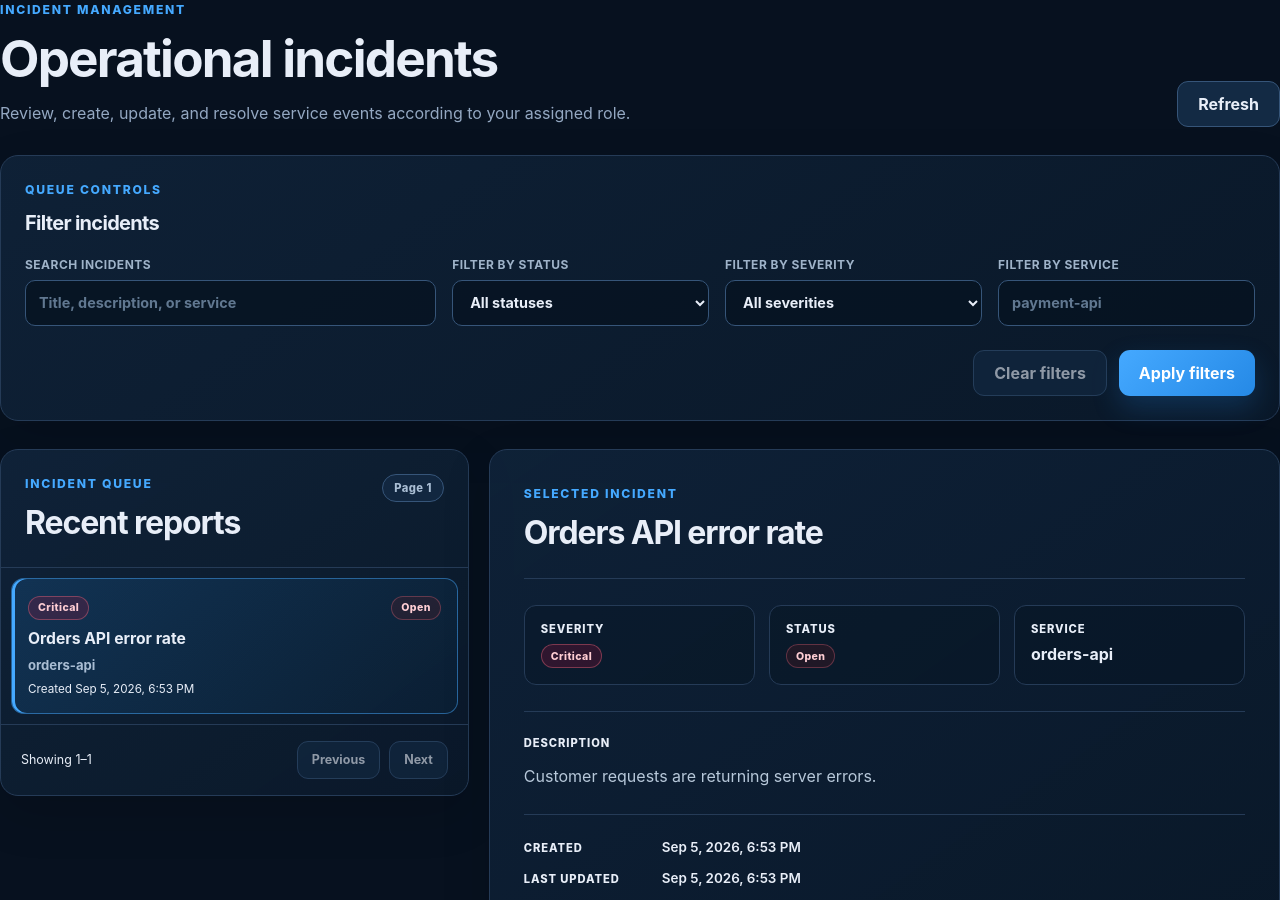
Scenario: IncidentsPage filters › shows an empty state for unmatched filters
Type "missing service" into the search field labelled "Search incidents". click: (231, 303)
box: [25,280,436,326]
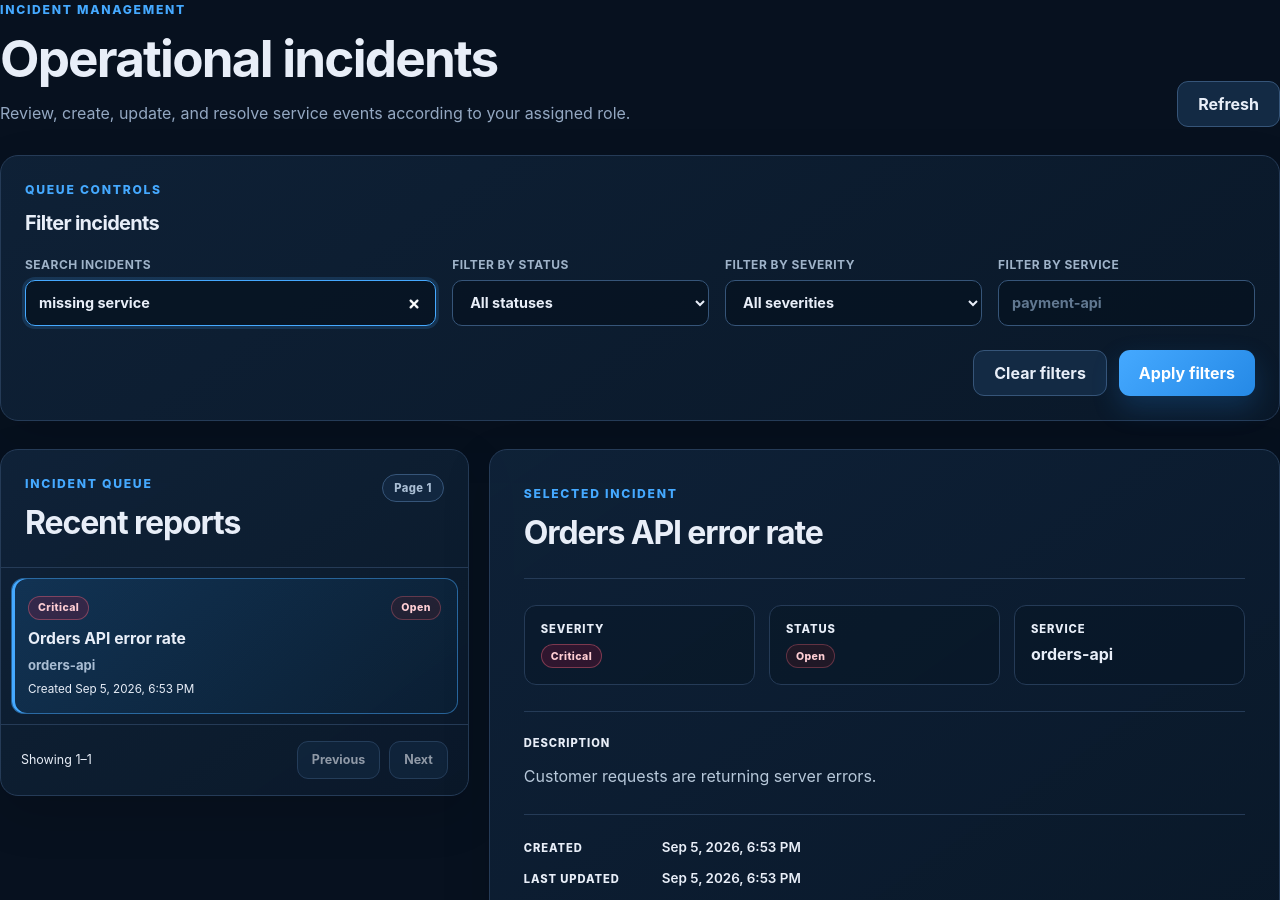
Click the button "Apply filters". click: (1187, 373)
box: [1119,350,1255,396]
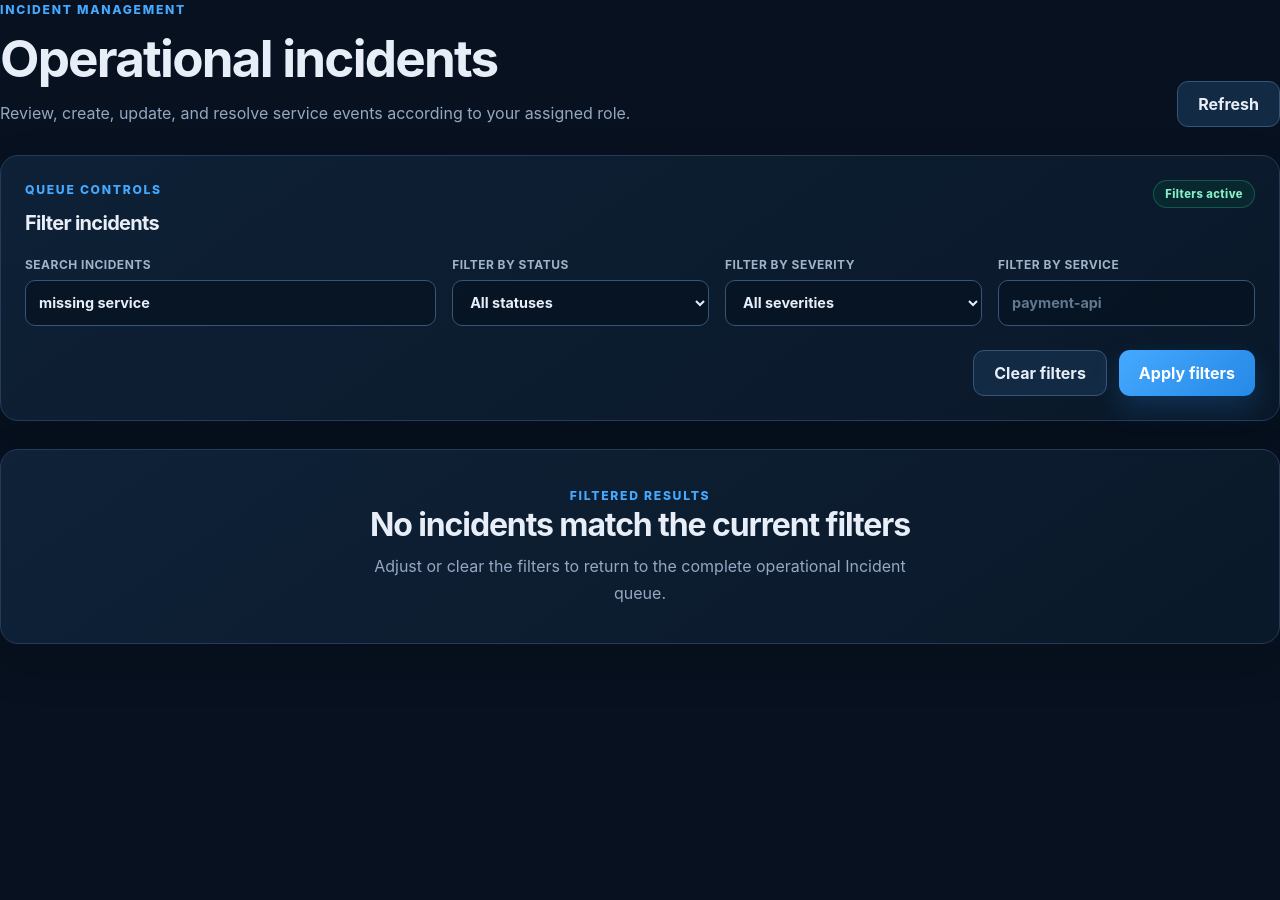
Expected: the button "Clear filters" is shown, [973,350,1107,396]
Now the heading "No incidents match the current filters" is shown, box [370,506,910,544]
